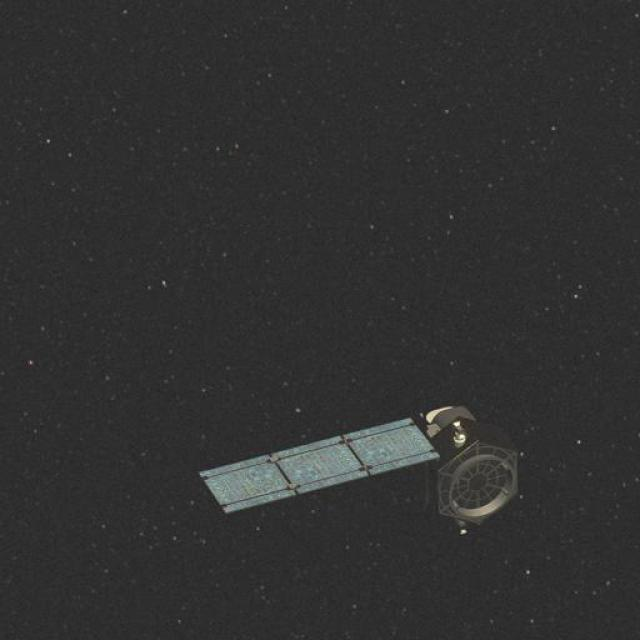earth_observation_sat_1: (307, 389, 538, 556)
